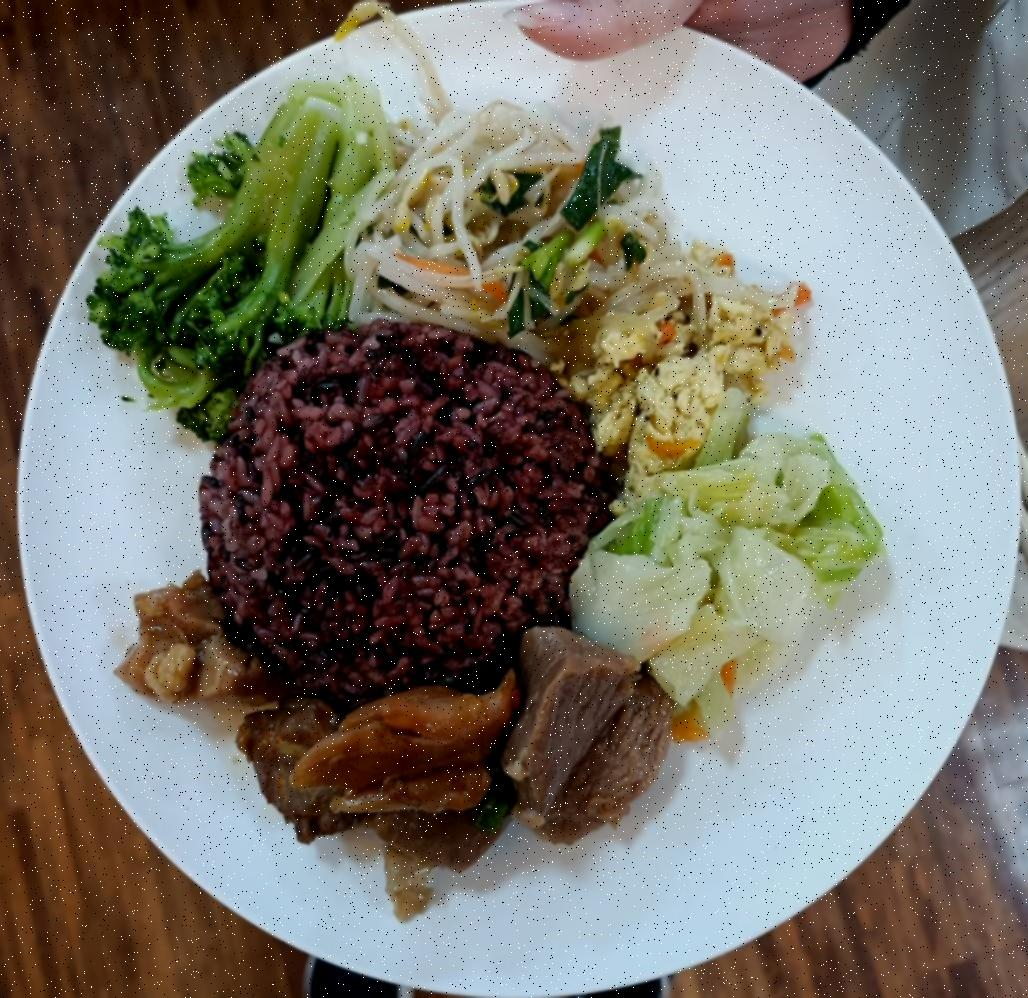big fried chicken leg: (18, 4, 1028, 998)
braised fish: (192, 322, 598, 703)
braised fish fillet: (90, 68, 384, 448), (351, 98, 704, 336), (579, 428, 879, 695), (576, 260, 807, 474)
braised pork: (124, 572, 677, 888)
